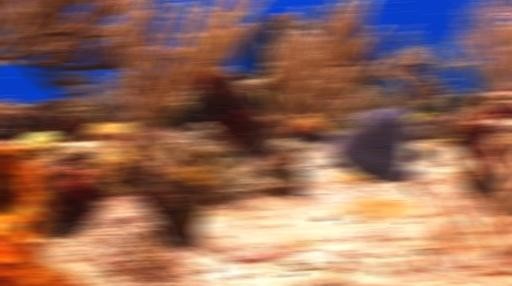Fish: (319, 117, 358, 135), (404, 110, 437, 123), (258, 90, 271, 103), (435, 137, 456, 145)
